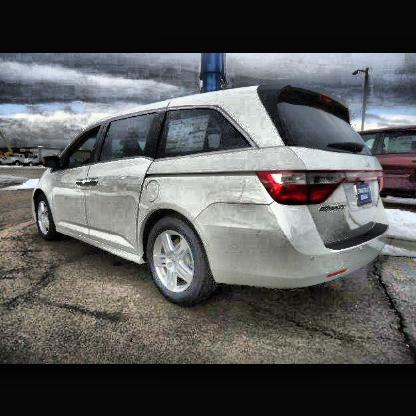Honda Odyssey Minivan 2012: (34, 85, 394, 308)
